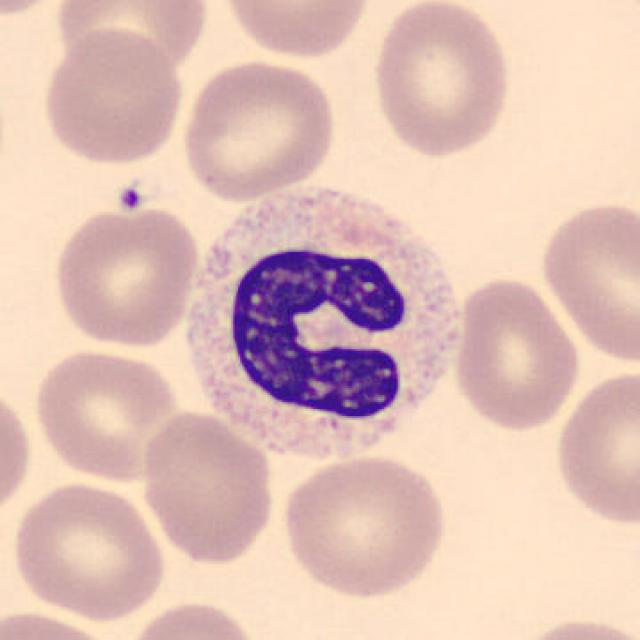Neutrophil: (172, 183, 470, 478)
Platelets: (114, 182, 146, 215)
RBC: (278, 452, 452, 602), (367, 0, 518, 162), (178, 54, 340, 204), (7, 478, 169, 622), (48, 204, 203, 351), (137, 407, 279, 566), (450, 273, 583, 434), (38, 26, 188, 168), (30, 346, 185, 483), (535, 196, 638, 367), (549, 365, 640, 529), (50, 0, 212, 83), (215, 0, 377, 62), (121, 597, 263, 640), (0, 379, 34, 524), (0, 606, 122, 640), (501, 613, 638, 640), (0, 0, 74, 19)
